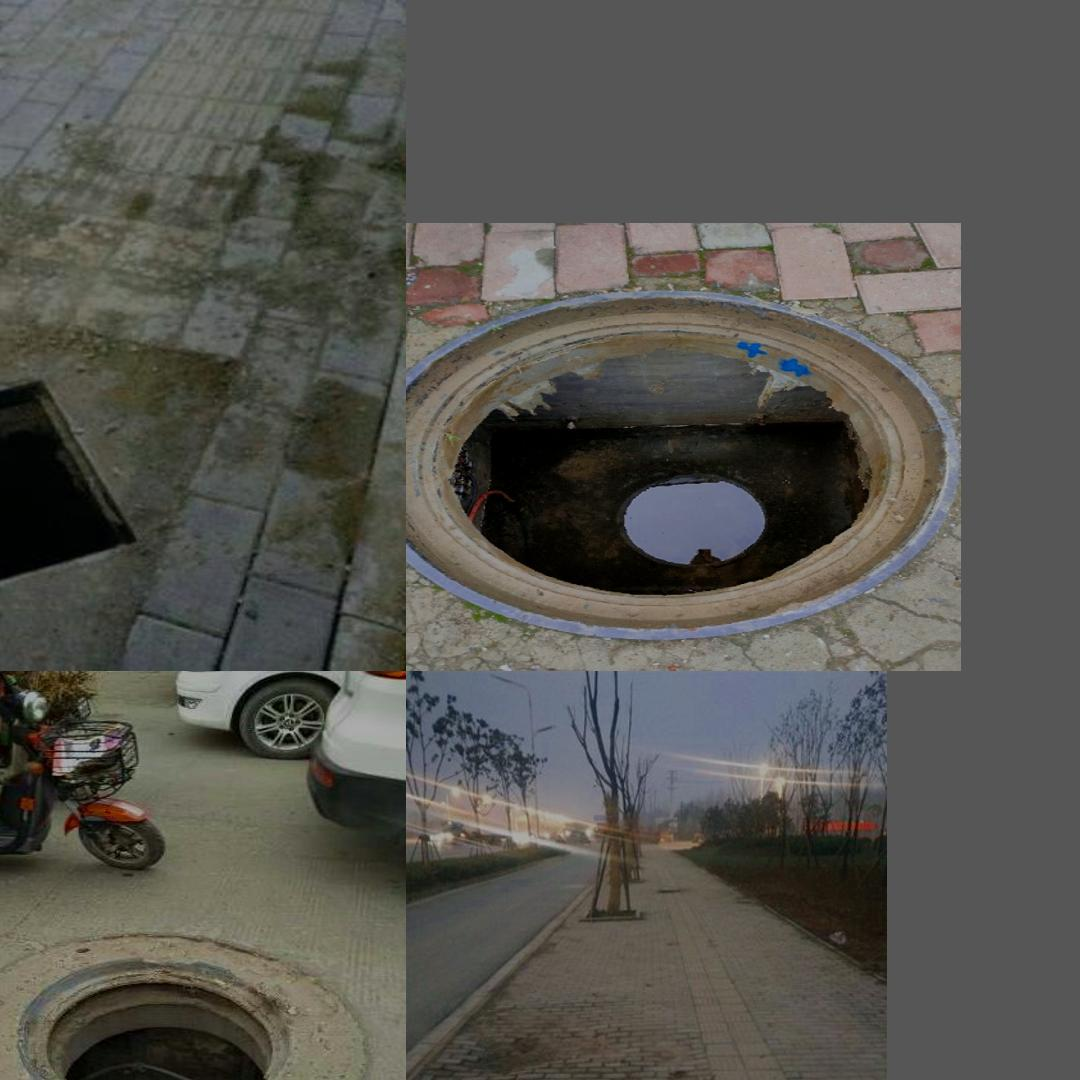lose: (409, 289, 958, 639), (0, 376, 162, 643), (17, 955, 293, 1080), (477, 1073, 636, 1080)
